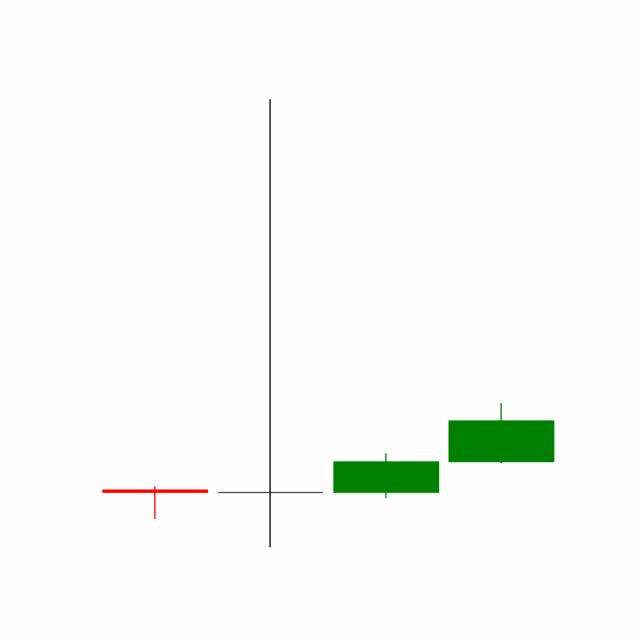Marubozu: (328, 452, 444, 499)
